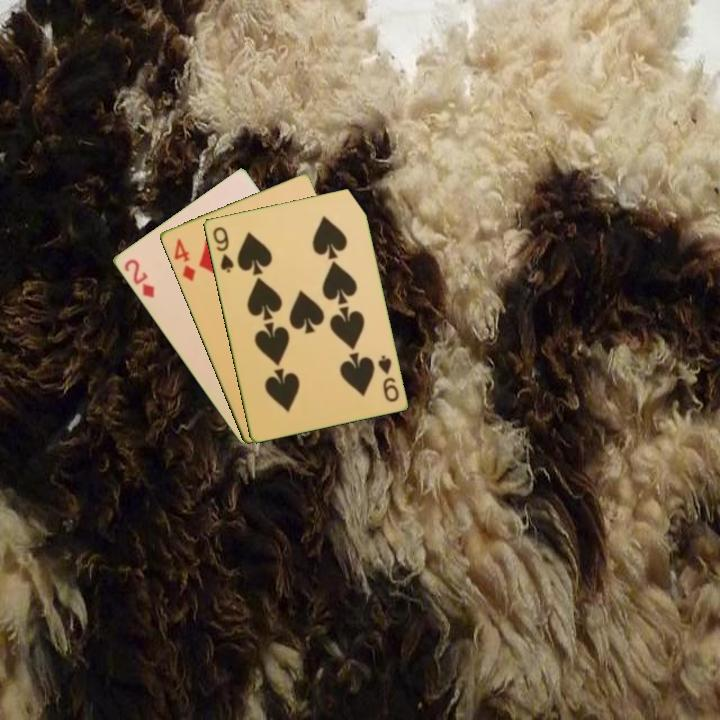2d: (120, 255, 157, 301)
4d: (170, 234, 198, 284)
9s: (374, 352, 401, 405), (209, 223, 236, 275)
